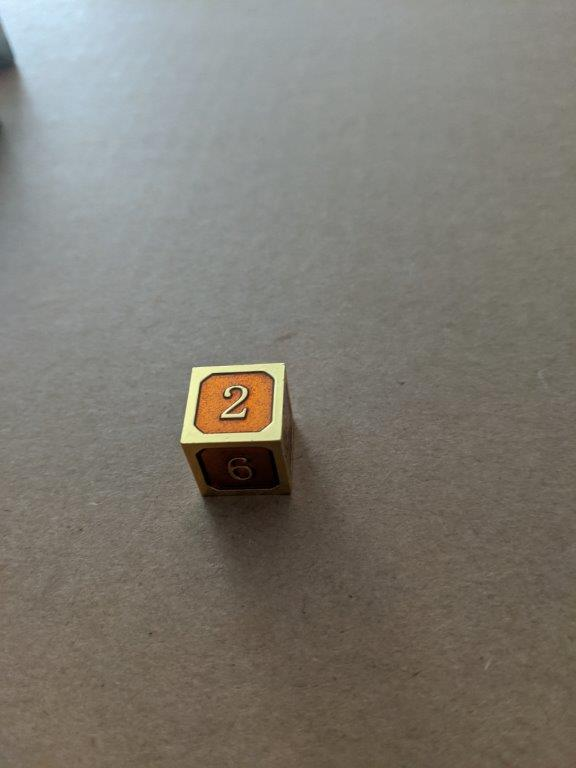d6-2: (181, 363, 297, 500)
